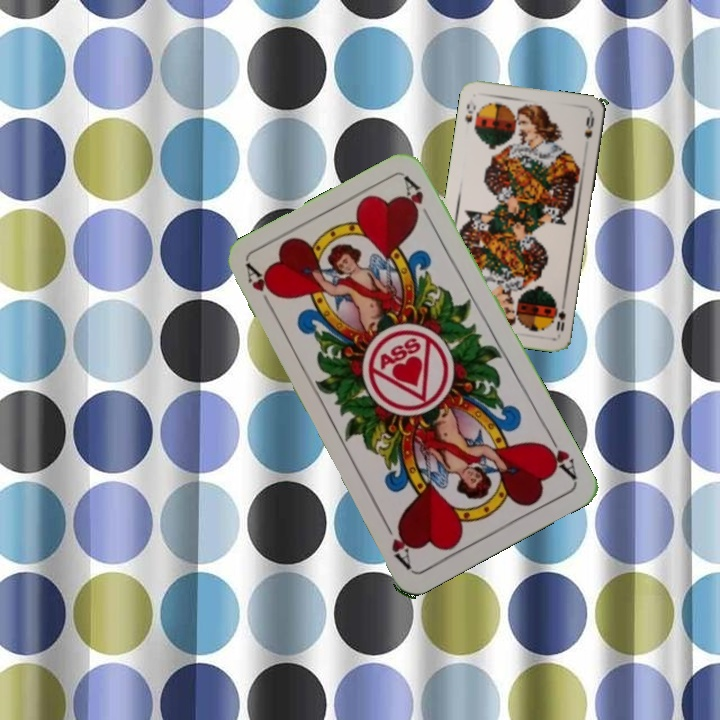HA: (536, 428, 579, 482), (242, 260, 278, 316)
SO: (552, 296, 568, 333), (461, 95, 479, 125)
